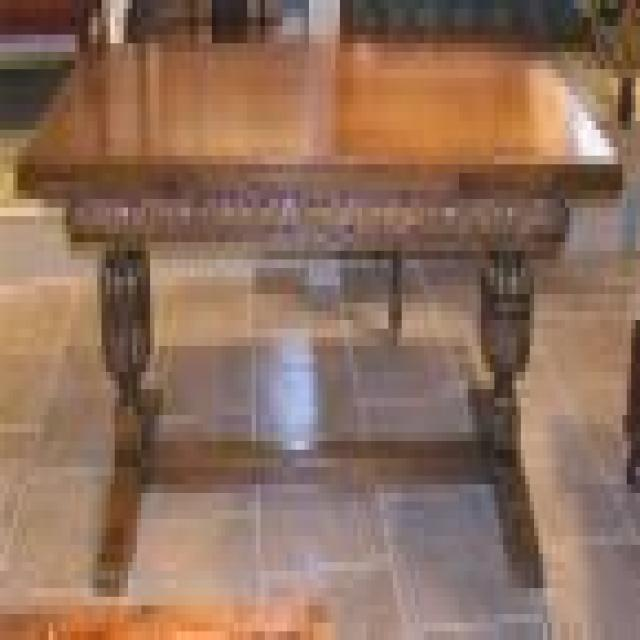table: (14, 26, 622, 588)
